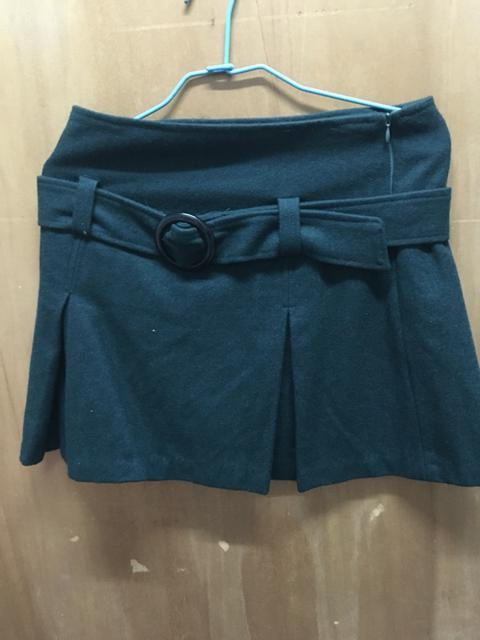Skirts: (16, 105, 479, 499)
